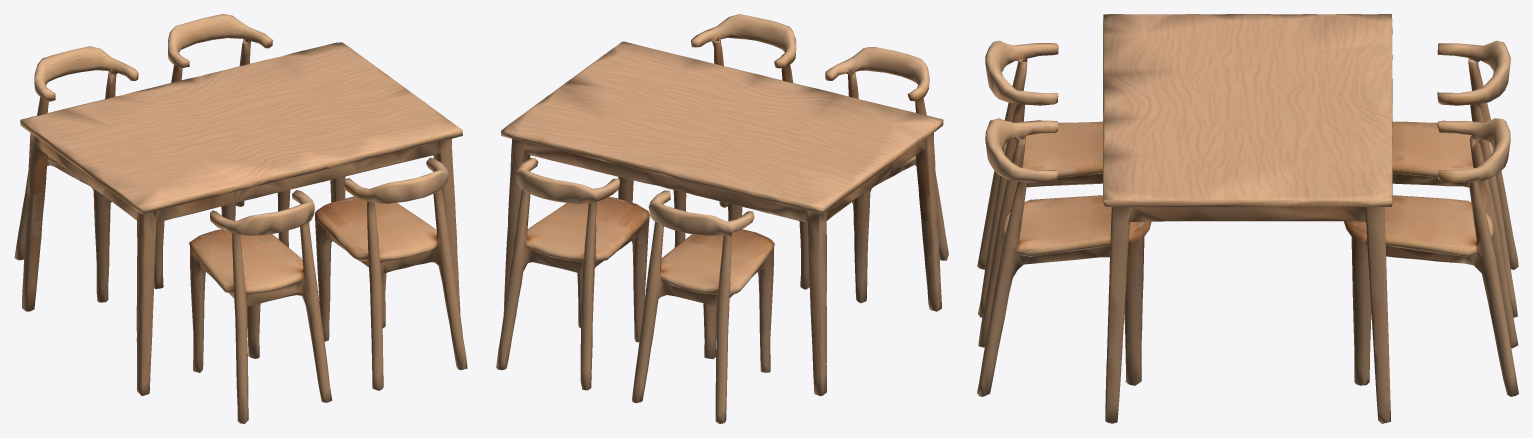
File: masa 1.fbx
The picture shows the model from 3 angles, left to right: view 1: azimuth 30°, elevation 25°; view 2: azimuth 150°, elevation 25°; view 3: azimuth 270°, elevation 25°; orthographic projection. The views are drawn at different scales.
Parts seen in each view (by area): view 1: Mesh_0, Mesh_0.006, Mesh_0.001, Mesh_0.004, Mesh_0.003; view 2: Mesh_0, Mesh_0.004, Mesh_0.003, Mesh_0.006, Mesh_0.001; view 3: Mesh_0, Mesh_0.001, Mesh_0.003, Mesh_0.004, Mesh_0.006.
Boxes of the visible parts, box(x1,y1,x2,y2) form: Mesh_0: box(20, 42, 462, 396); Mesh_0.006: box(189, 190, 332, 423); Mesh_0.001: box(315, 157, 467, 390); Mesh_0.004: box(14, 46, 164, 302); Mesh_0.003: box(168, 14, 290, 247); Mesh_0: box(501, 41, 943, 396); Mesh_0.004: box(632, 190, 774, 423); Mesh_0.003: box(496, 158, 649, 390); Mesh_0.006: box(799, 47, 948, 303); Mesh_0.001: box(673, 14, 796, 247); Mesh_0: box(1103, 14, 1392, 423); Mesh_0.001: box(977, 118, 1151, 396); Mesh_0.003: box(1344, 118, 1518, 396); Mesh_0.004: box(1392, 40, 1518, 317); Mesh_0.006: box(977, 40, 1102, 317).
Size of the model in its own units: 141 by 84.52 by 173.
1 material, 1 textured.
